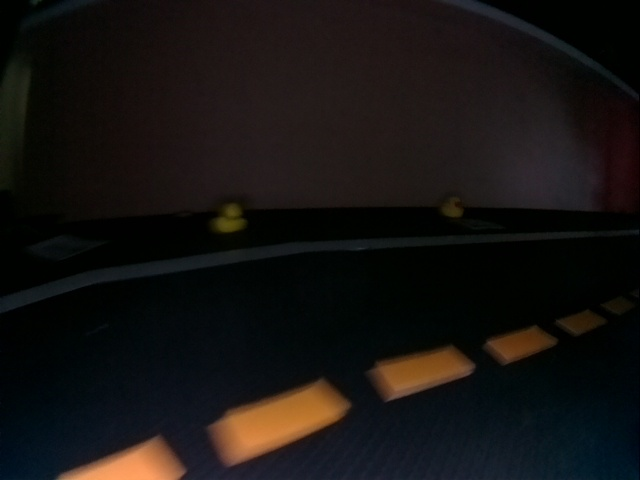Duckie: (213, 203, 247, 233), (441, 198, 465, 218)
